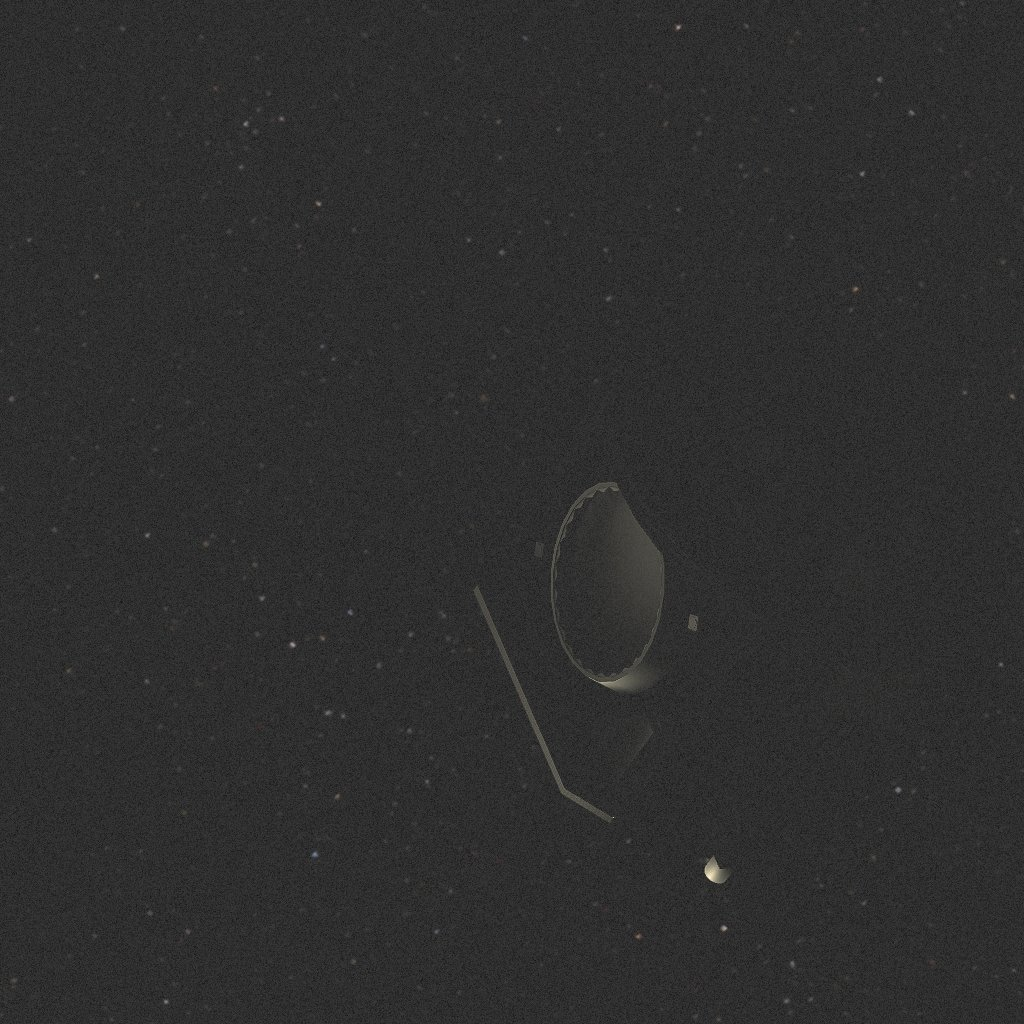proba_3_ocs: (474, 294, 1014, 883)
